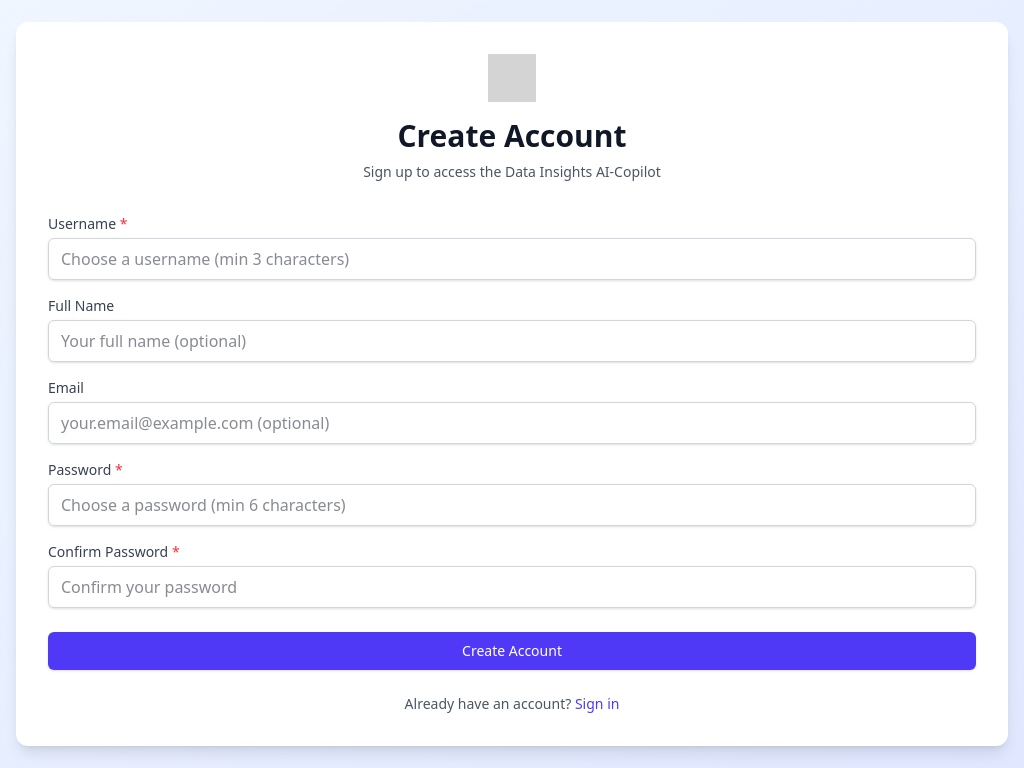
RegisterPage › validates: username too short
This screenshot has width=1024, height=768.
In the field labelled "Username *": (512,259) [48,238,976,280], type "ab"
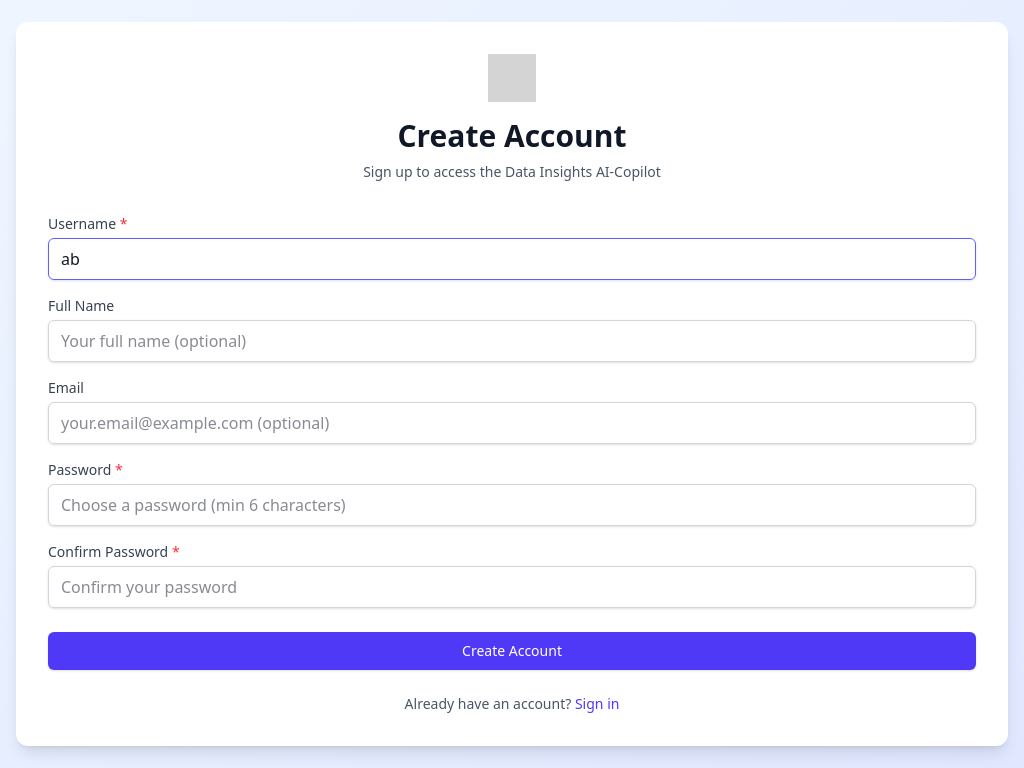
In the password field labelled "Password *": (512,505) [48,484,976,526], type "password123"
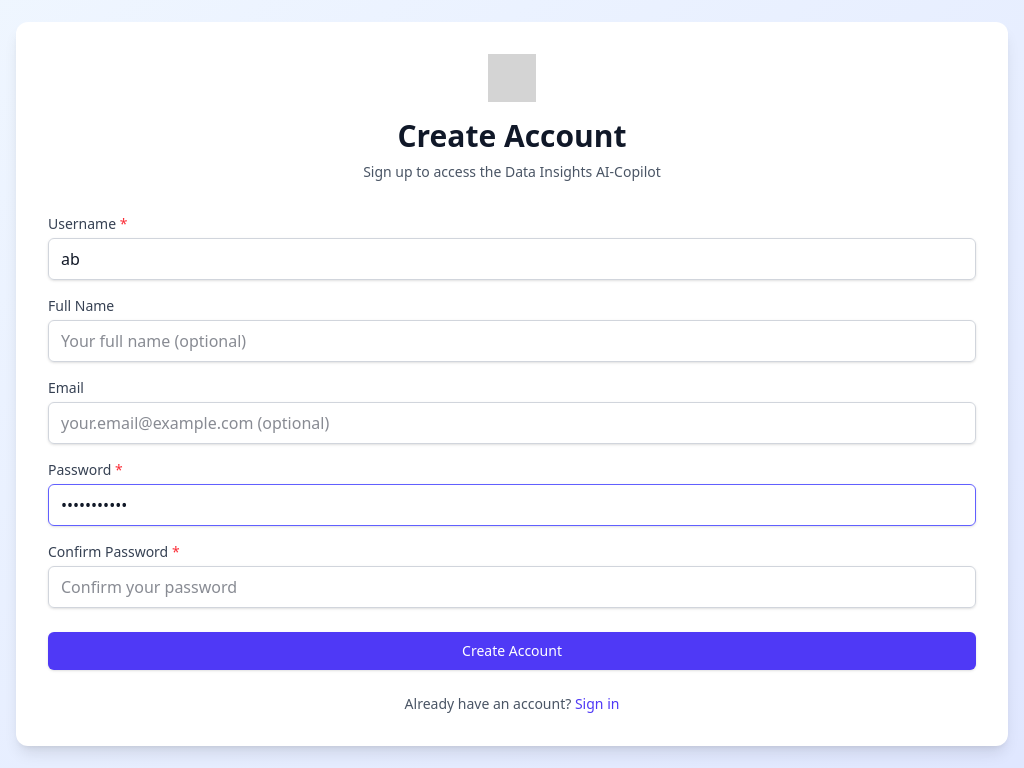
In the password field labelled "Confirm Password *": (512,587) [48,566,976,608], type "password123"
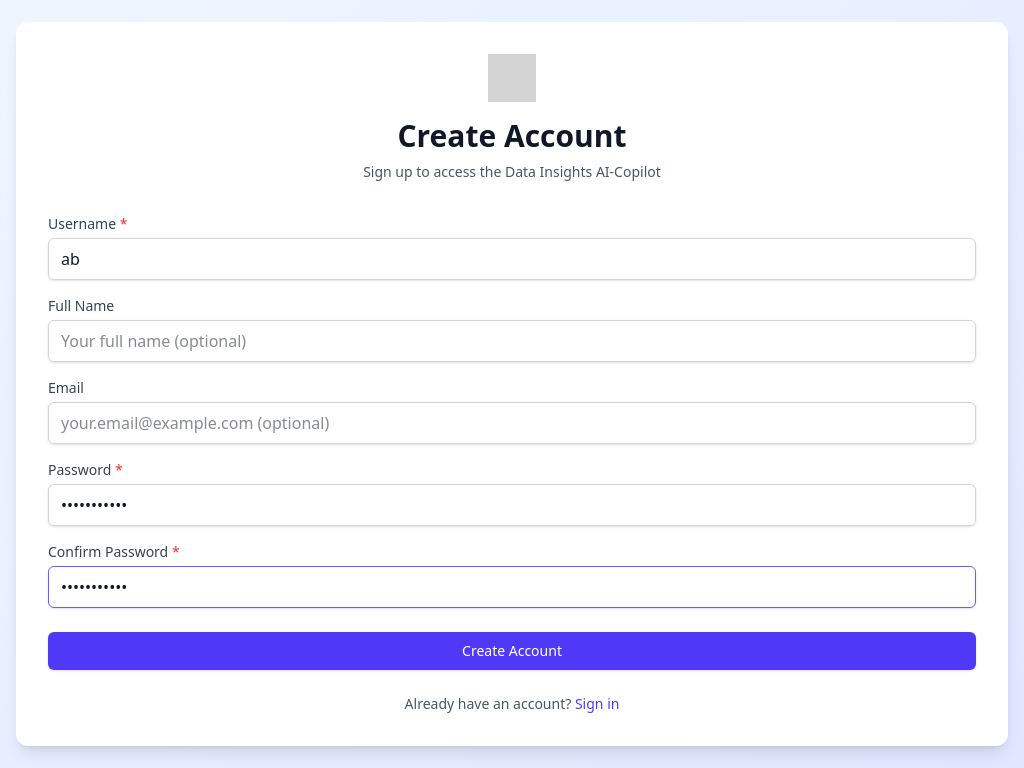
Click the button "Create Account": (512,651) [48,632,976,670]
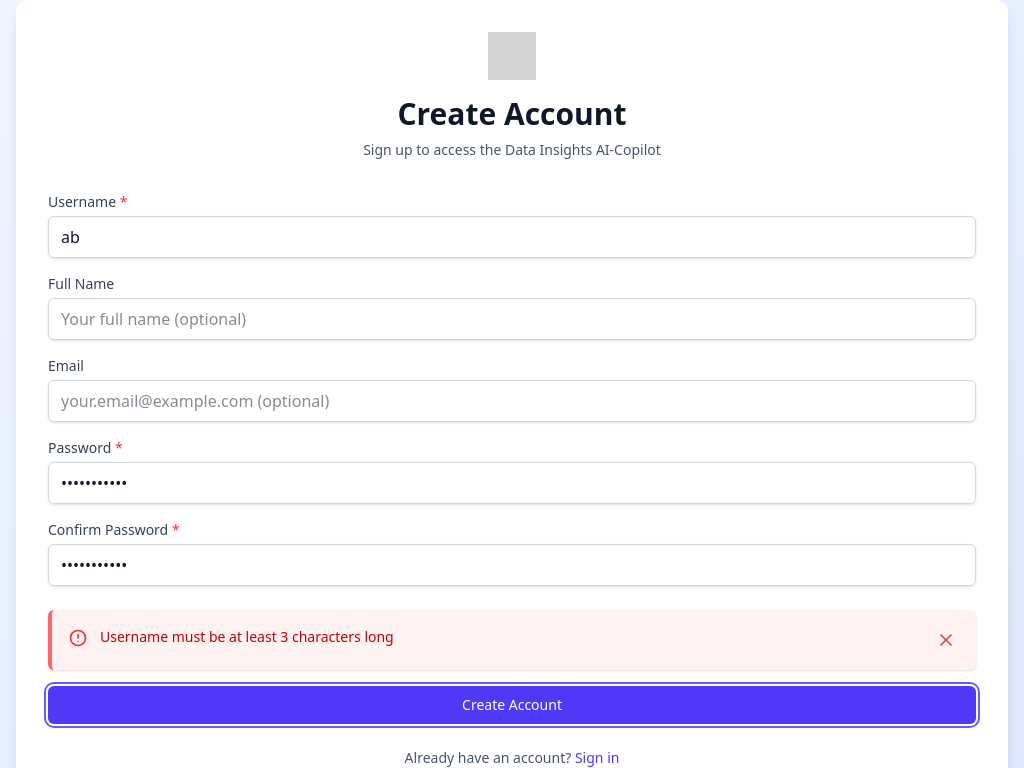
expect the message shows "Username must be at least 3 characters": met, box [100,627,394,646]
